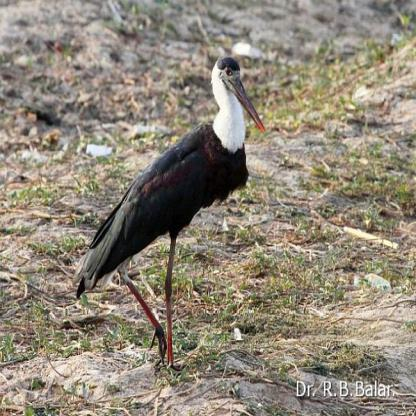Burung: (70, 49, 269, 368)
